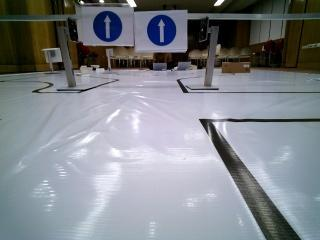straight: (77, 3, 131, 44), (134, 11, 188, 51)
